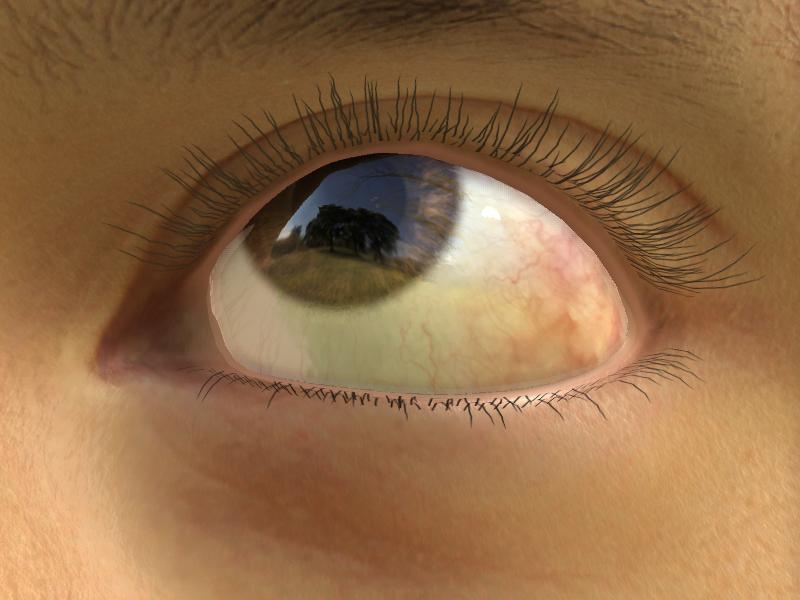eye: (241, 151, 460, 313)
